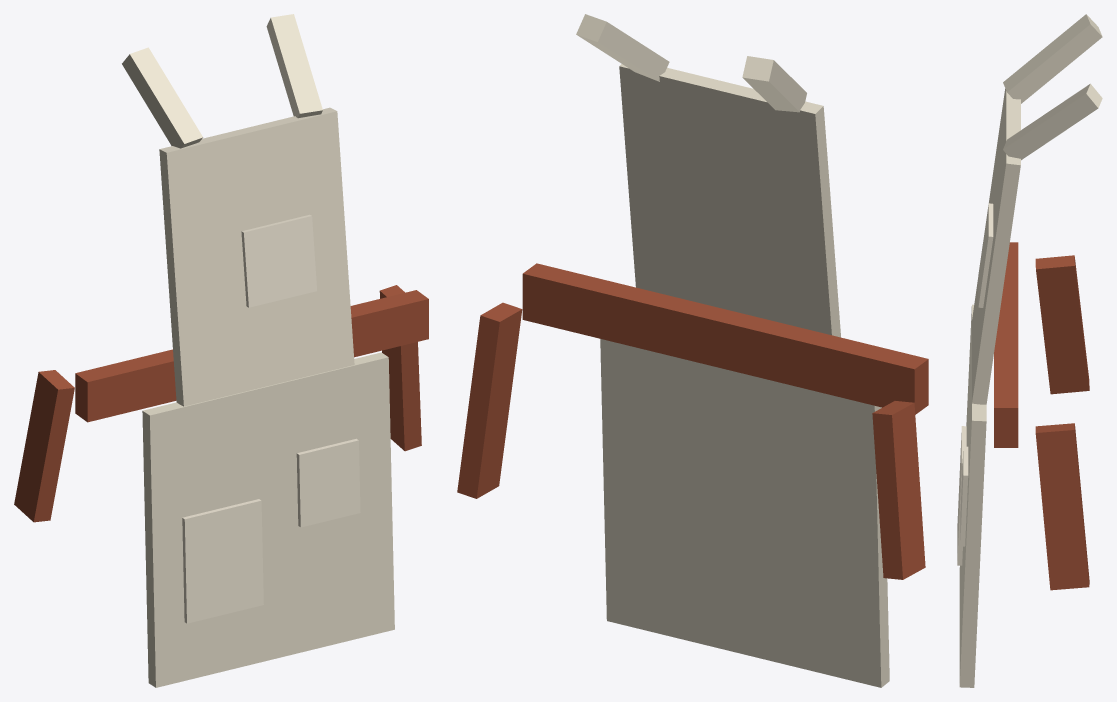
Rendered from villager-apron.glb.
The picture shows the model from 3 angles, left to right: view 1: azimuth 30°, elevation 25°; view 2: azimuth 150°, elevation 25°; view 3: azimuth 270°, elevation 25°; orthographic projection. The views are drawn at different scales.
Parts seen in each view (by area): view 1: apron; view 2: apron; view 3: apron.
Boxes of the visible parts, x1=… form: apron: x1=14, y1=14, x2=428, y2=687; apron: x1=457, y1=14, x2=928, y2=687; apron: x1=957, y1=14, x2=1102, y2=687.
Bounding box in the file's own units: 0.9097 × 1.3 × 0.2965.
1 material, 1 textured.
